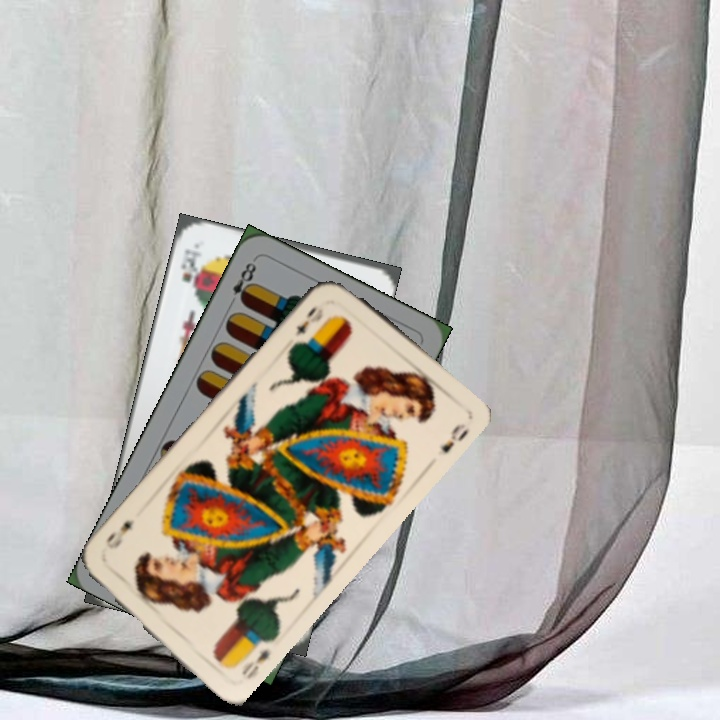E8: (224, 255, 259, 310)
EO: (237, 644, 272, 682), (291, 302, 326, 339)
SK: (177, 245, 205, 290)
